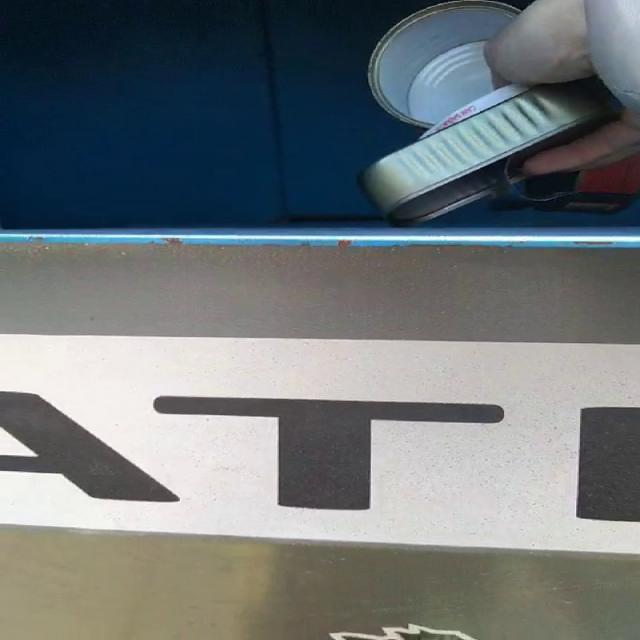bin: (1, 0, 640, 640)
metal: (360, 1, 623, 224), (525, 155, 640, 212)
